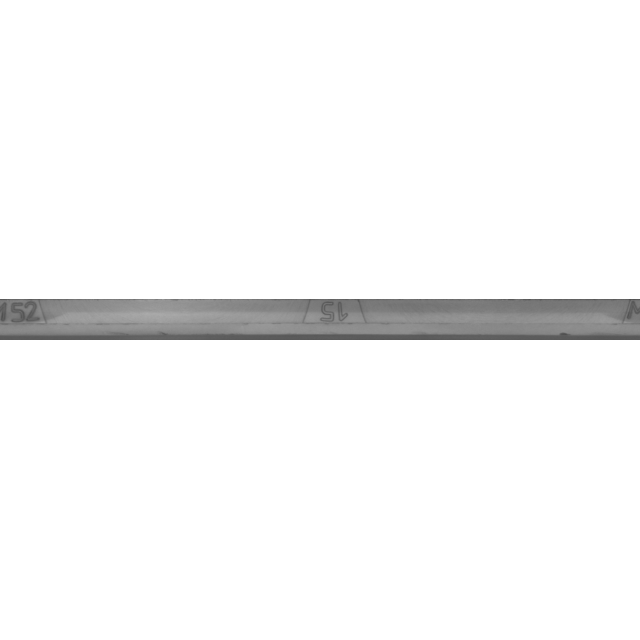mohao: (0, 270, 108, 370)
xuehao: (236, 270, 436, 370)
